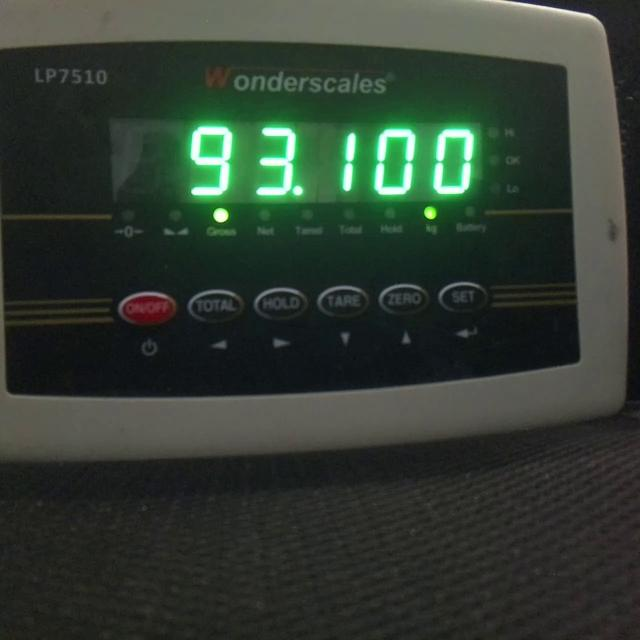.: (292, 185, 302, 196)
0: (374, 128, 416, 195), (434, 128, 474, 194)
1: (341, 132, 357, 192)
3: (253, 123, 300, 200)
9: (189, 125, 234, 197)
